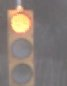Red: (2, 4, 39, 86)
